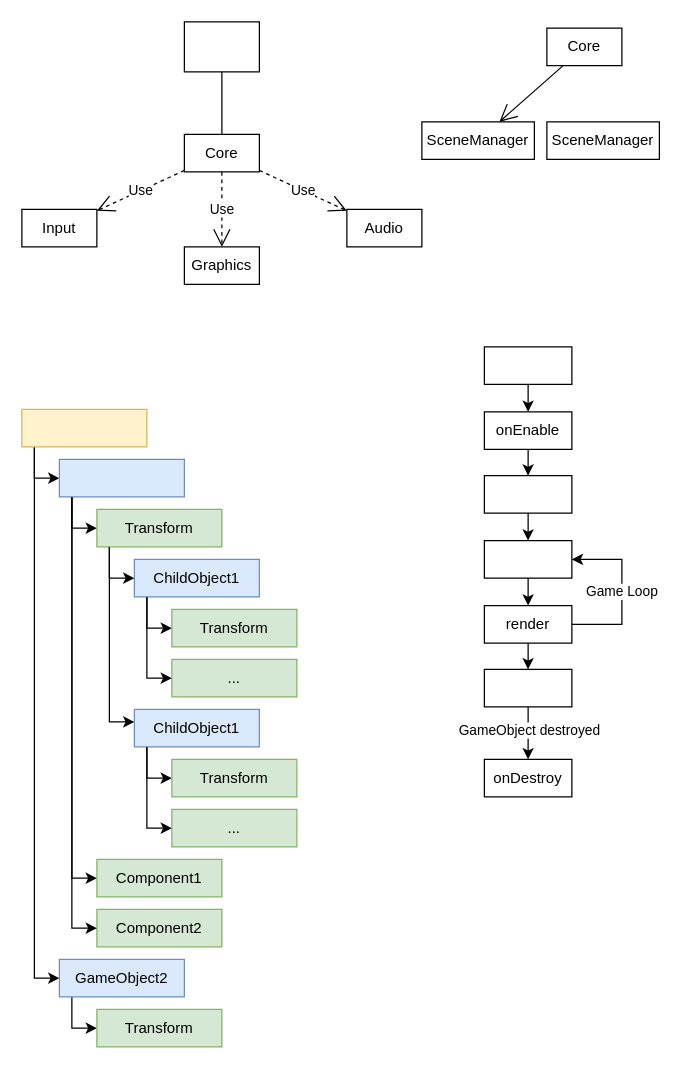
The diagram is 681 pixels wide and 1069 high, and some of its shapes have lost their labels. The shapes that lost their labels are listed below. From the top down, each one's centre as x and y in pixels, then its label:
the point at 221,46: Elaria engine
the point at 527,365: awake
the point at 84,427: Scene
the point at 121,477: GameObject1
the point at 527,493: start
the point at 527,558: update
the point at 527,687: onDisable
